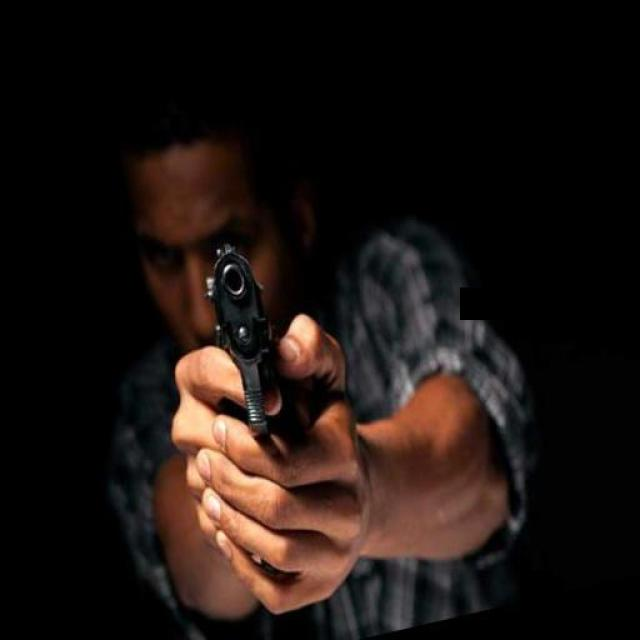gun: (188, 234, 302, 450)
